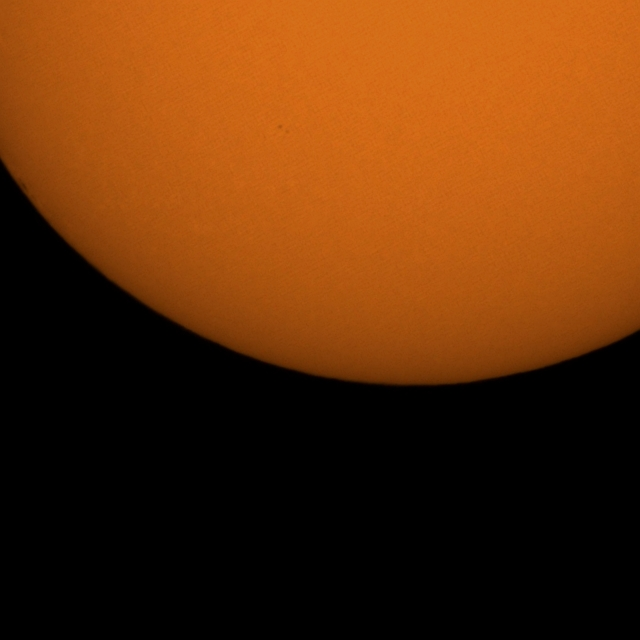sunspot: (19, 180, 29, 192), (276, 123, 287, 133)
